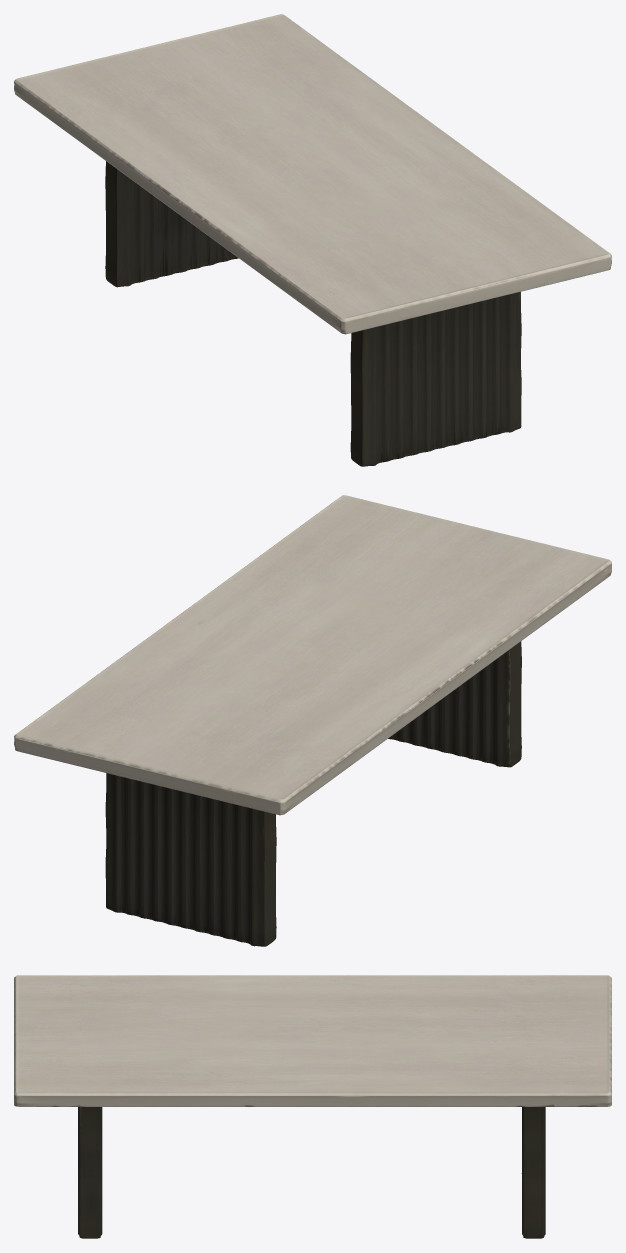
File: dining-real-castlery-sloane-travertine-225.glb
3 renders of one model, top to bottom at view 1: azimuth 30°, elevation 25°; view 2: azimuth 150°, elevation 25°; view 3: azimuth 270°, elevation 25°, orthographic. The views are drawn at different scales.
Parts seen in each view (by area): view 1: node_0; view 2: node_0; view 3: node_0.
Boxes of the visible parts, x1,y1,x2,y2 form: node_0: (14,14,611,466); node_0: (14,495,611,946); node_0: (14,975,611,1238).
Bounding box in the file's own units: 0.4971 × 0.331 × 1.05.
1 material, 1 textured.
